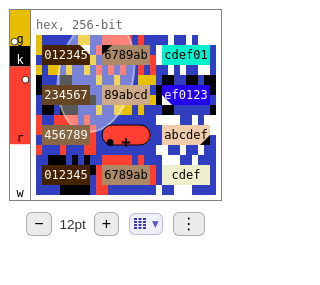
Test: Entviz controls › size: + / − step the font ladder (uncontrolled); 0 resets via keyboard
Click the button "+" at (106, 224), box [94,212,119,236]
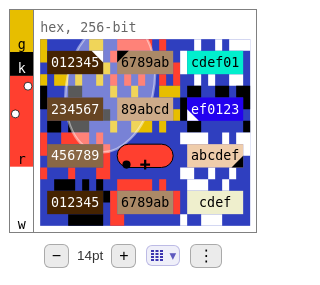
Now the text "14pt" is shown, box [77,248,103,263]
Click the button "−" at (56, 256), box [44,244,69,268]
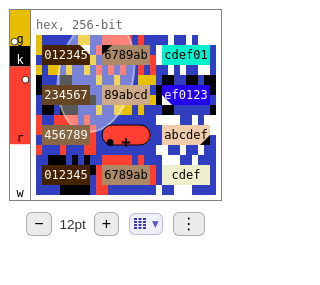
Now the text "12pt" is shown, box [59,216,86,232]
Click the button "+" at (106, 224), box [94,212,119,236]
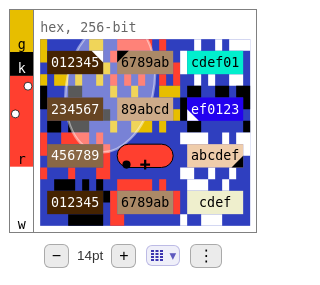
Press 0 in the element that starts with "6789ab"
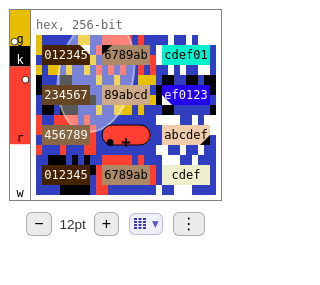
Now the text "12pt" is shown, box [59,216,86,232]
